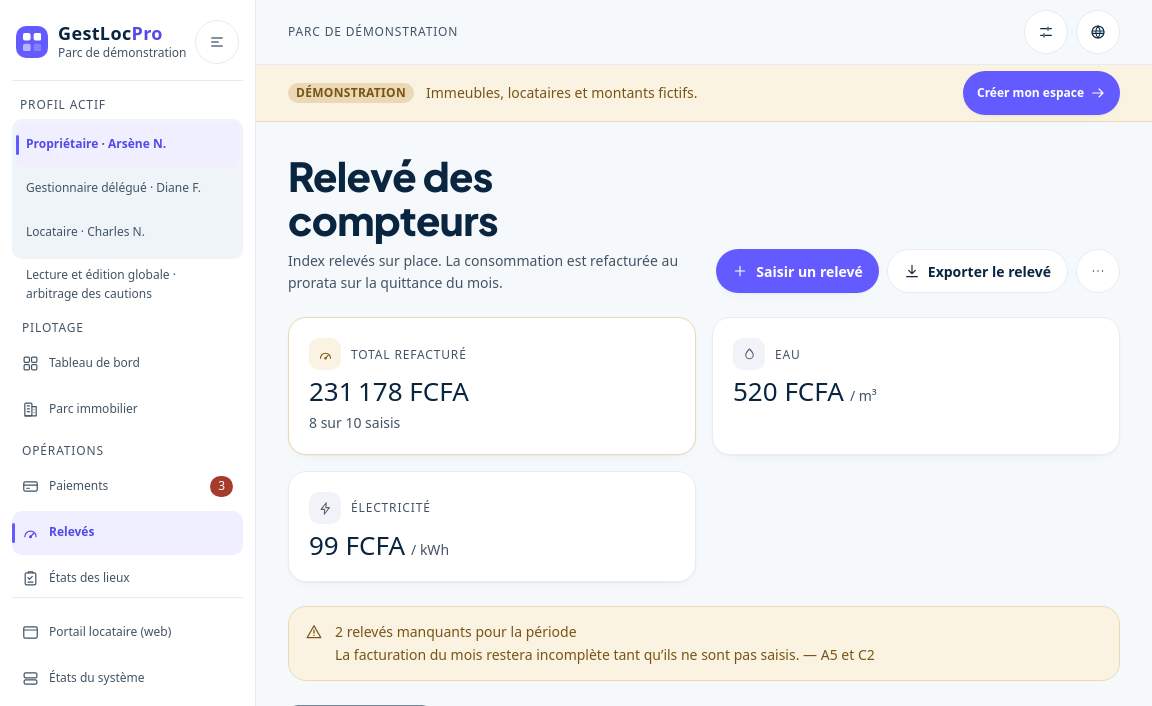
it: l’écran des relevés › demande l’INDEX et non la consommation, et déduit la période
Click the button "Saisir un relevé" at (798, 271), box top-left (716, 249), bottom-right (879, 293)
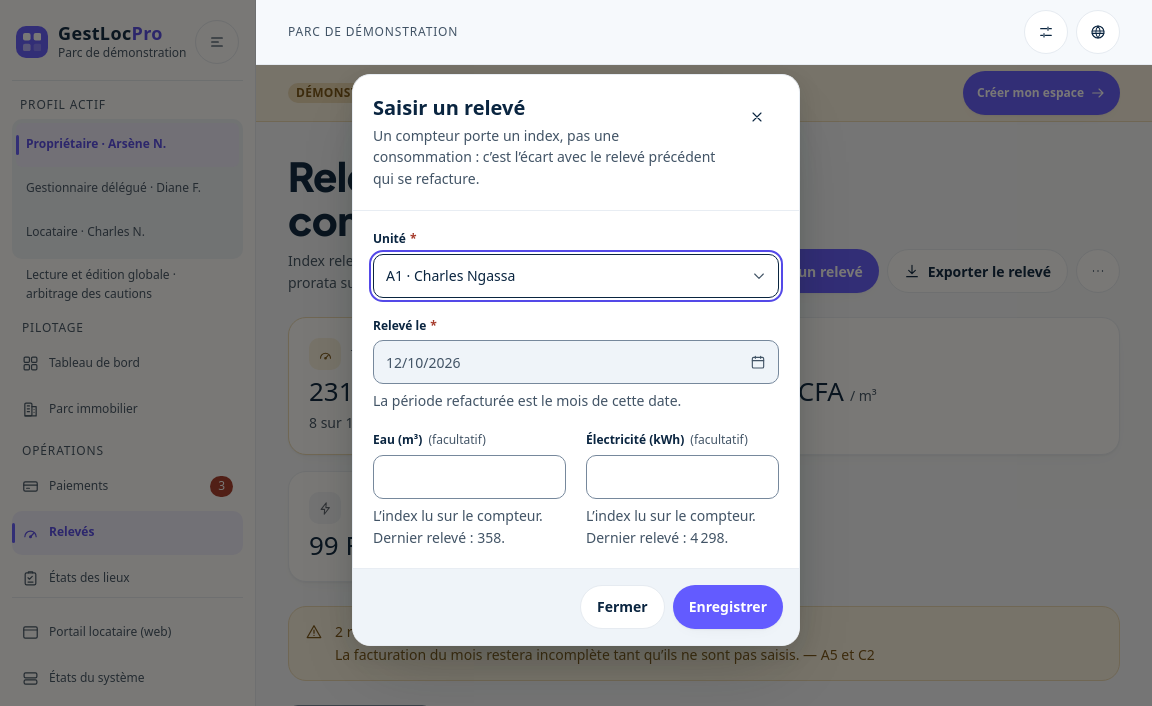
Check: the text "L’index lu sur le compteur. Dernier relevé : 358." is shown 2 times, box top-left (373, 505), bottom-right (566, 548); top-left (586, 505), bottom-right (779, 548)
Check: the text "La période refacturée est le mois de cette date." is shown, box top-left (373, 391), bottom-right (681, 410)
